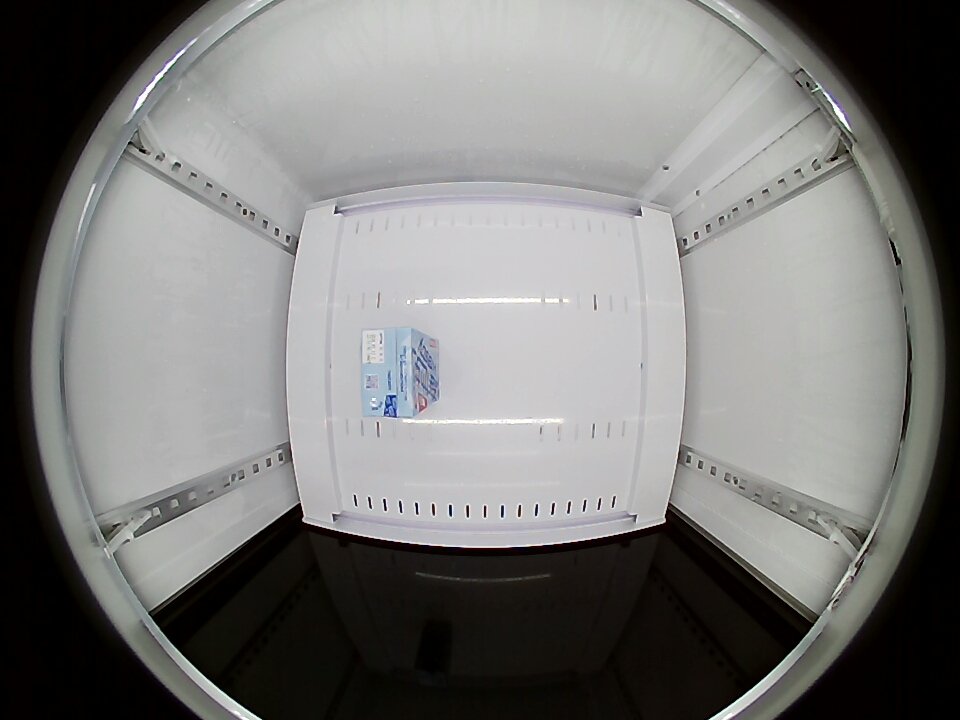weitanaiditang: (360, 326, 434, 419)
